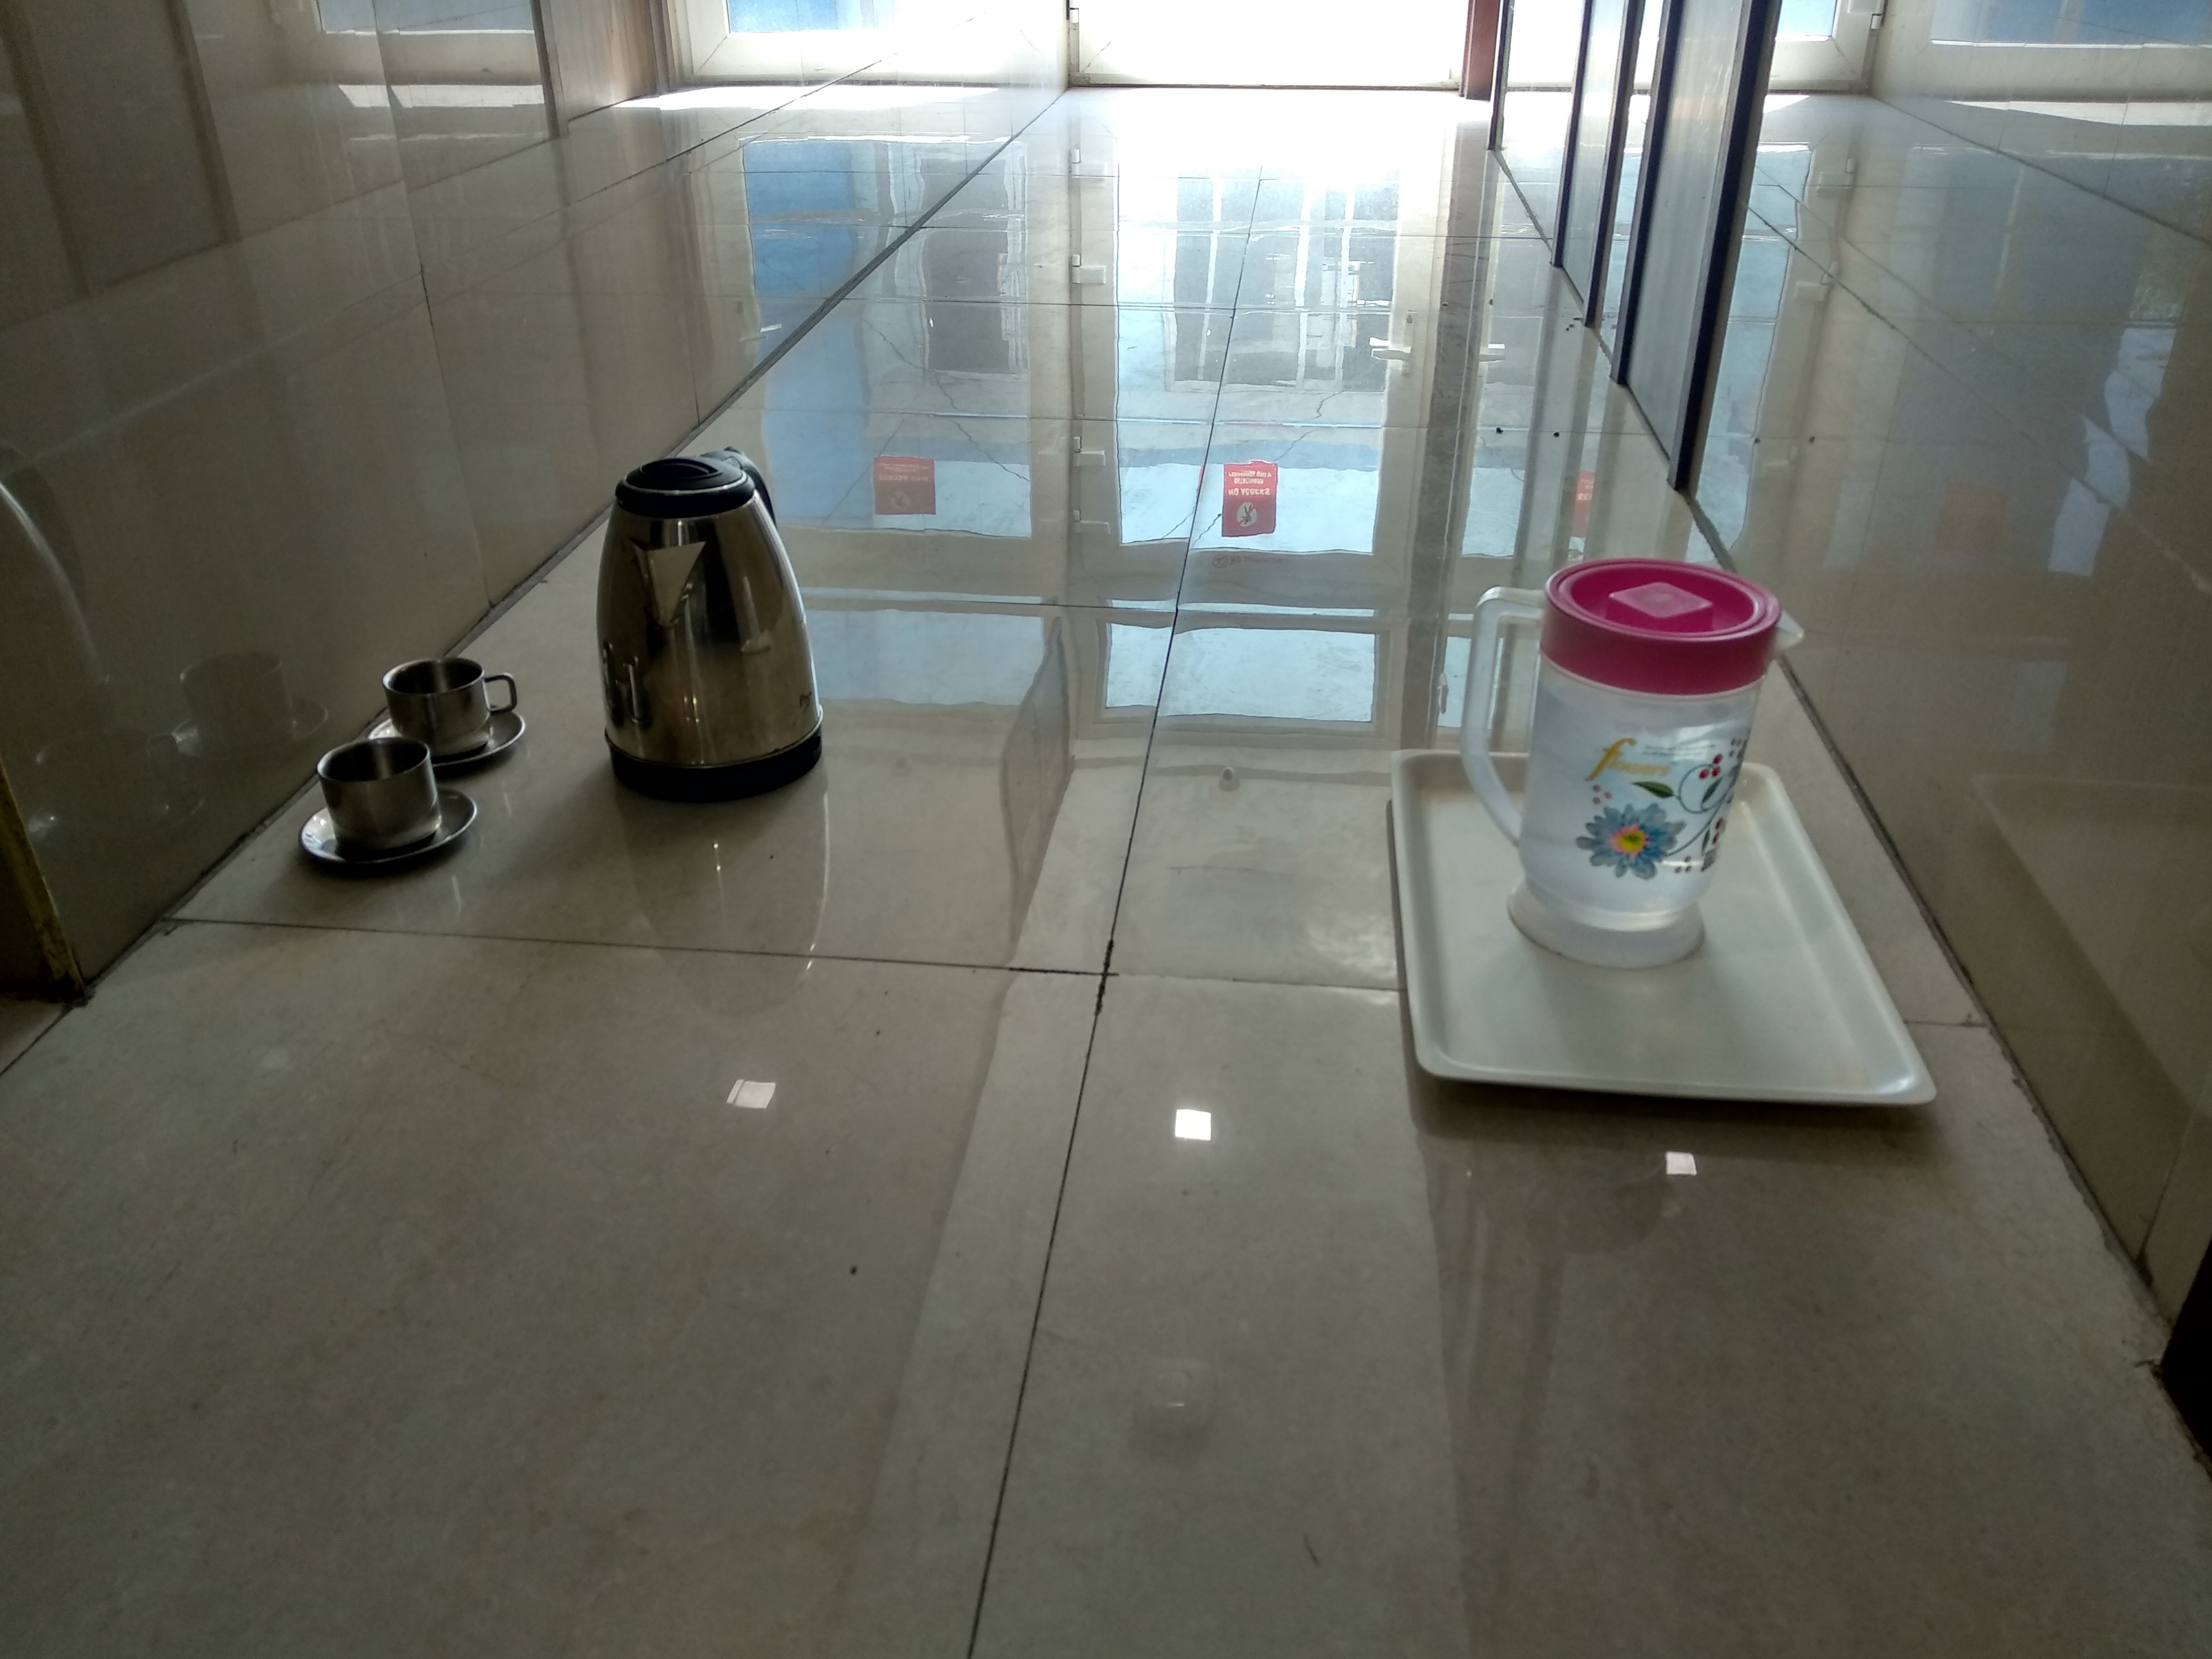CUP: (301, 727, 479, 878), (366, 647, 529, 760)
JUG: (1442, 500, 1820, 1016), (550, 408, 862, 819)
